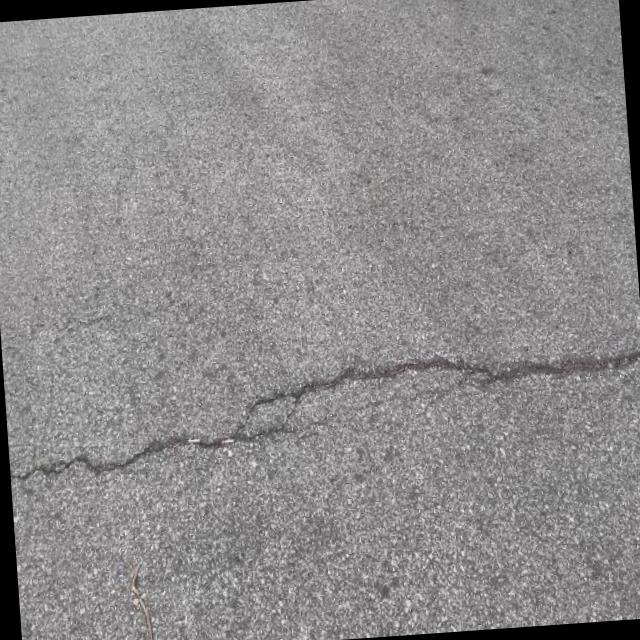Retak-Melintang: (19, 346, 640, 481)
